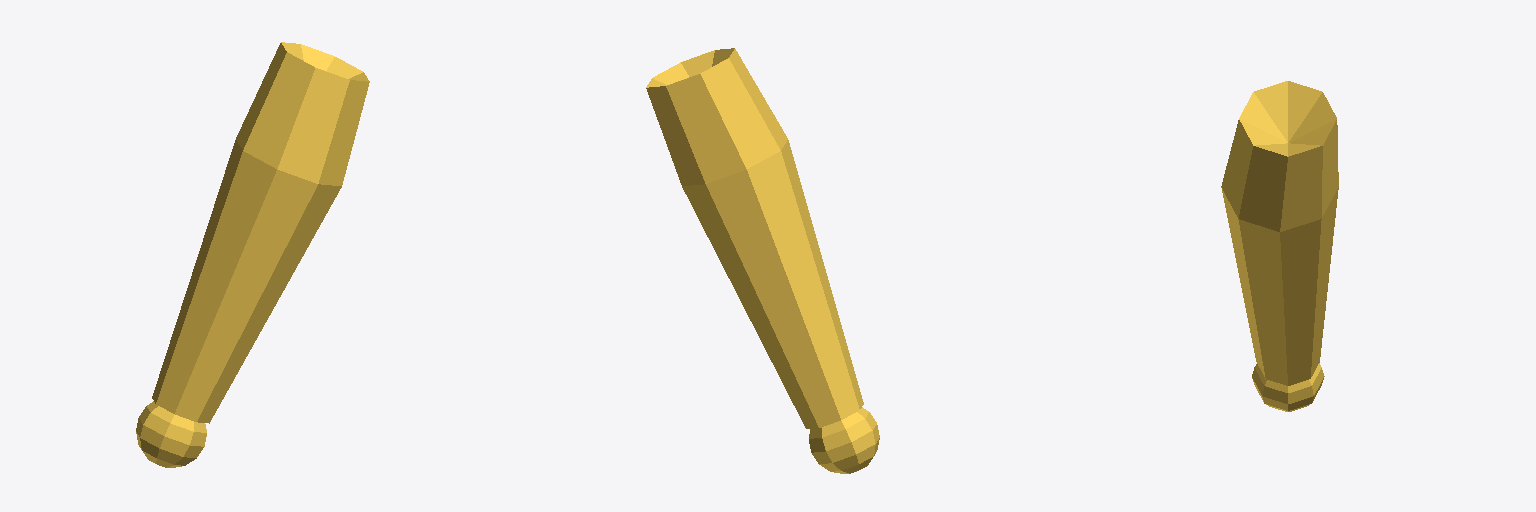
Rendered from leftLeg.obj.
The picture shows the model from 3 angles: view 1: azimuth 30°, elevation 25°; view 2: azimuth 150°, elevation 25°; view 3: azimuth 270°, elevation 25°; orthographic projection.
Parts seen in each view (by area): view 1: Cylinder.001; view 2: Cylinder.001; view 3: Cylinder.001.
Boxes of the visible parts, <box> form: Cylinder.001: <box>136,42,369,467</box>; Cylinder.001: <box>646,48,879,473</box>; Cylinder.001: <box>1221,81,1338,411</box>.
Bounding box in the file's own units: 2.13 × 3.5 × 0.9691.